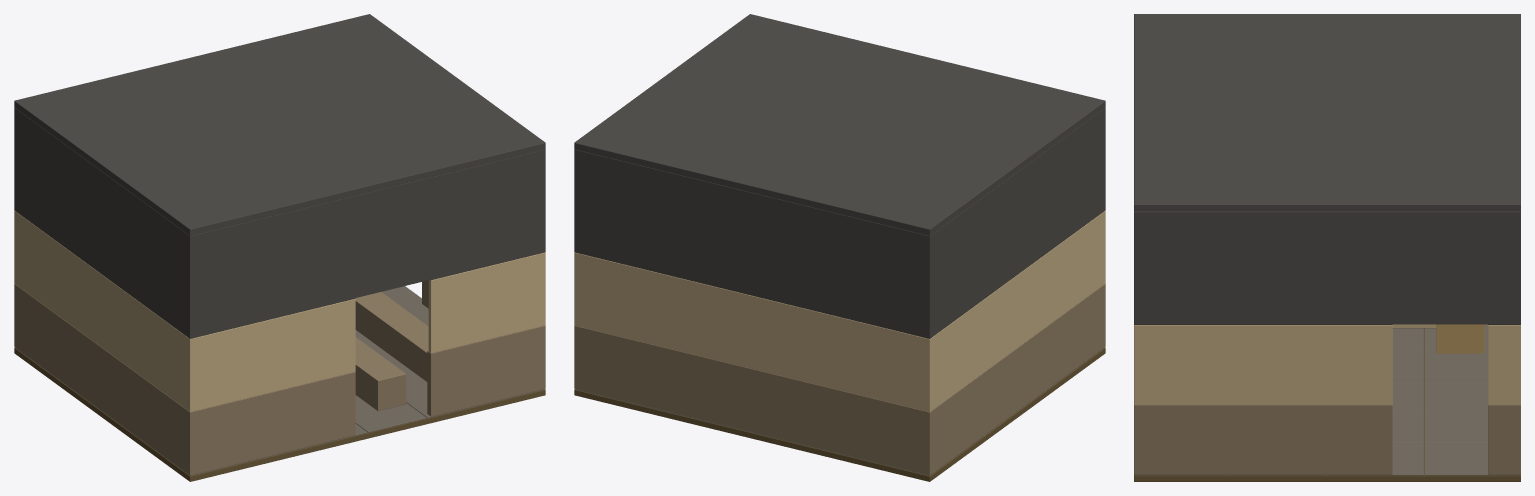
The model's file is gen-assembly.glb.
3 renders of one model, left to right at view 1: azimuth 30°, elevation 25°; view 2: azimuth 150°, elevation 25°; view 3: azimuth 270°, elevation 25°, orthographic. The views are drawn at different scales.
Visible parts, largest first — view 1: THE ASSEMBLY; view 2: THE ASSEMBLY; view 3: THE ASSEMBLY.
Boxes of the visible parts, <box> form: THE ASSEMBLY: <box>14,14,545,481</box>; THE ASSEMBLY: <box>574,14,1105,481</box>; THE ASSEMBLY: <box>1134,14,1520,481</box>.
Bounding box in the file's own units: 5.6 × 3.8 × 4.8.
